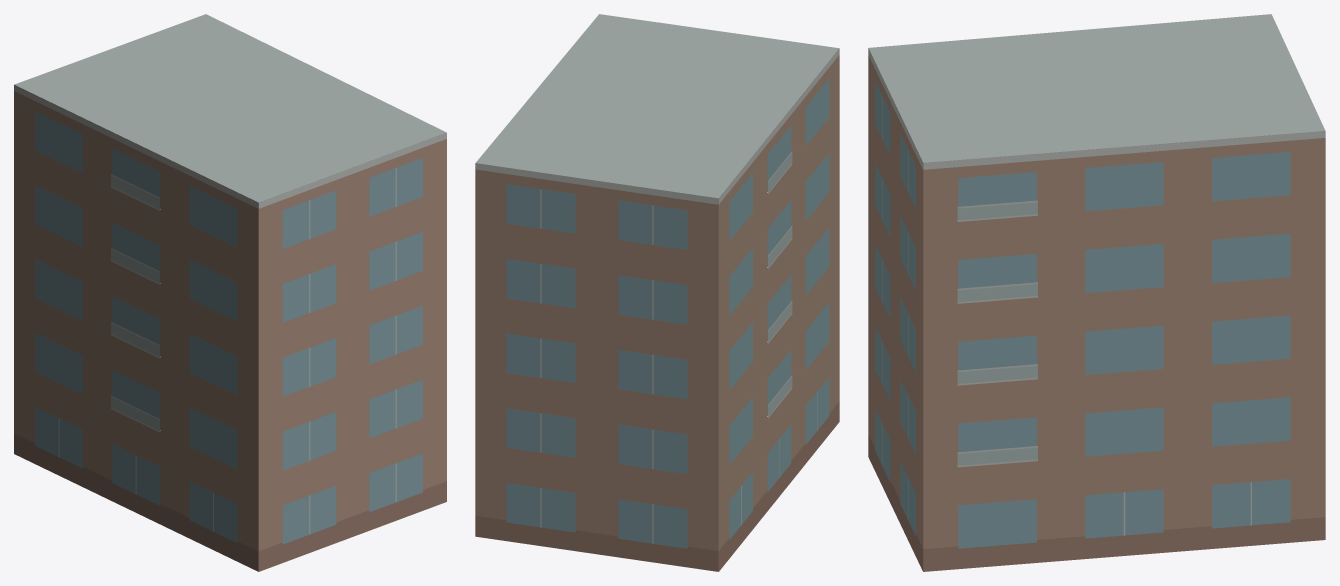
The model's file is survey-upis-32884538.glb.
3 views of the same model, side by side, from view 1: azimuth 30°, elevation 25°; view 2: azimuth 150°, elevation 25°; view 3: azimuth 270°, elevation 25° (orthographic). The views are drawn at different scales.
Visible parts, largest first — view 1: survey-upis-32884538.tmp; view 2: survey-upis-32884538.tmp; view 3: survey-upis-32884538.tmp.
Part boxes in pixels (x1,y1,x2,y2): survey-upis-32884538.tmp: (14,14,446,571); survey-upis-32884538.tmp: (475,14,839,571); survey-upis-32884538.tmp: (868,14,1325,571).
Bounding box in the file's own units: 11.17 × 14.3 × 14.5.
